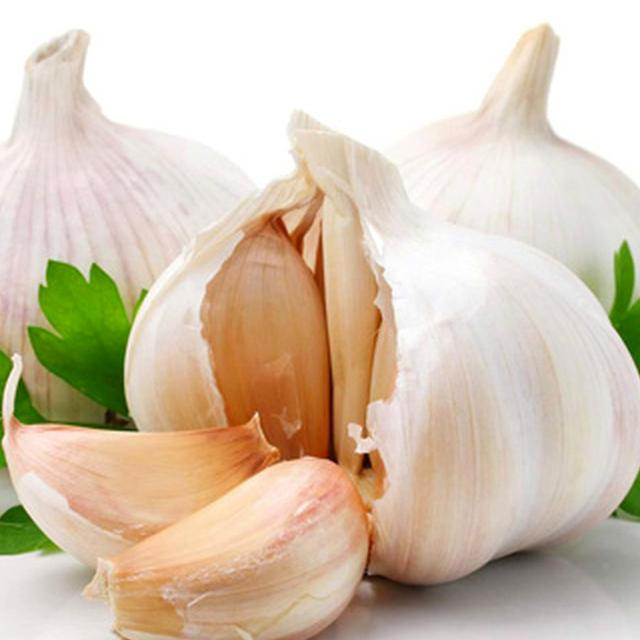garlic: (344, 193, 635, 584), (102, 471, 374, 640), (4, 410, 273, 548), (180, 215, 326, 457)
